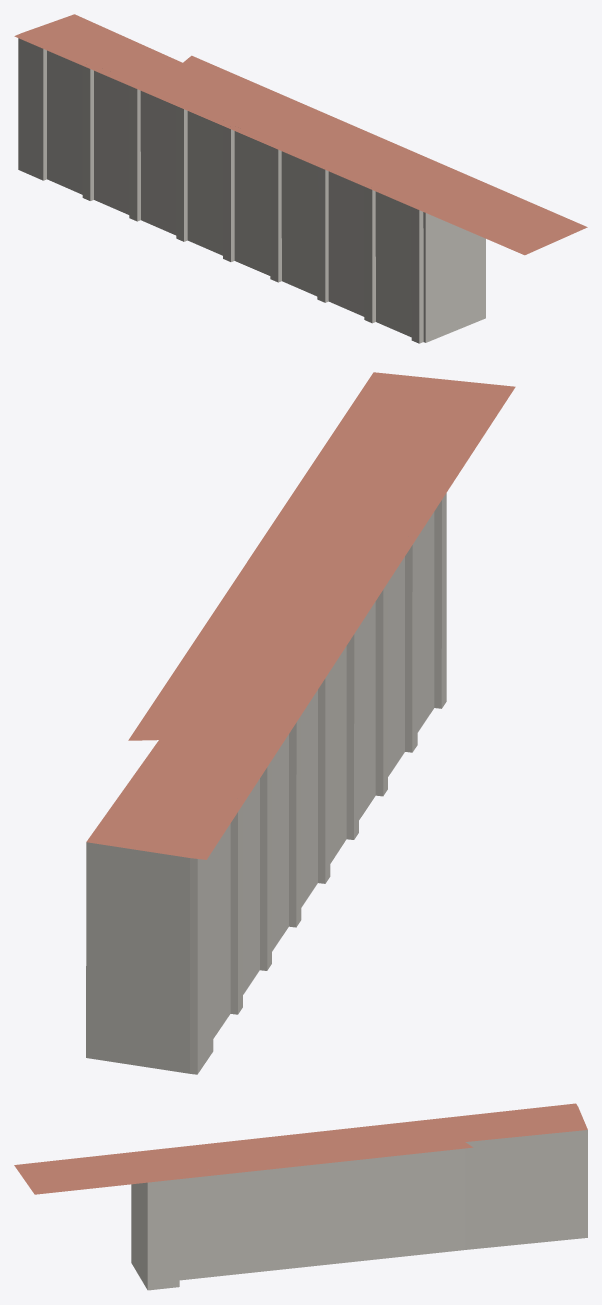
3 views of the same model, one above another, from view 1: azimuth 30°, elevation 25°; view 2: azimuth 150°, elevation 25°; view 3: azimuth 270°, elevation 25° (orthographic). The views are drawn at different scales.
Visible parts, largest first — view 1: swisstopo:swissbuildings3d:3a15cf7e-8130-47ed-bb89-c93bd81da; view 2: swisstopo:swissbuildings3d:3a15cf7e-8130-47ed-bb89-c93bd81da; view 3: swisstopo:swissbuildings3d:3a15cf7e-8130-47ed-bb89-c93bd81da.
Part boxes in pixels (x1,y1,x2,y2): swisstopo:swissbuildings3d:3a15cf7e-8130-47ed-bb89-c93bd81da: (14, 14, 587, 343); swisstopo:swissbuildings3d:3a15cf7e-8130-47ed-bb89-c93bd81da: (86, 372, 515, 1074); swisstopo:swissbuildings3d:3a15cf7e-8130-47ed-bb89-c93bd81da: (14, 1103, 587, 1290).
Bounding box in the file's own units: 13.29 × 7.33 × 35.3.
